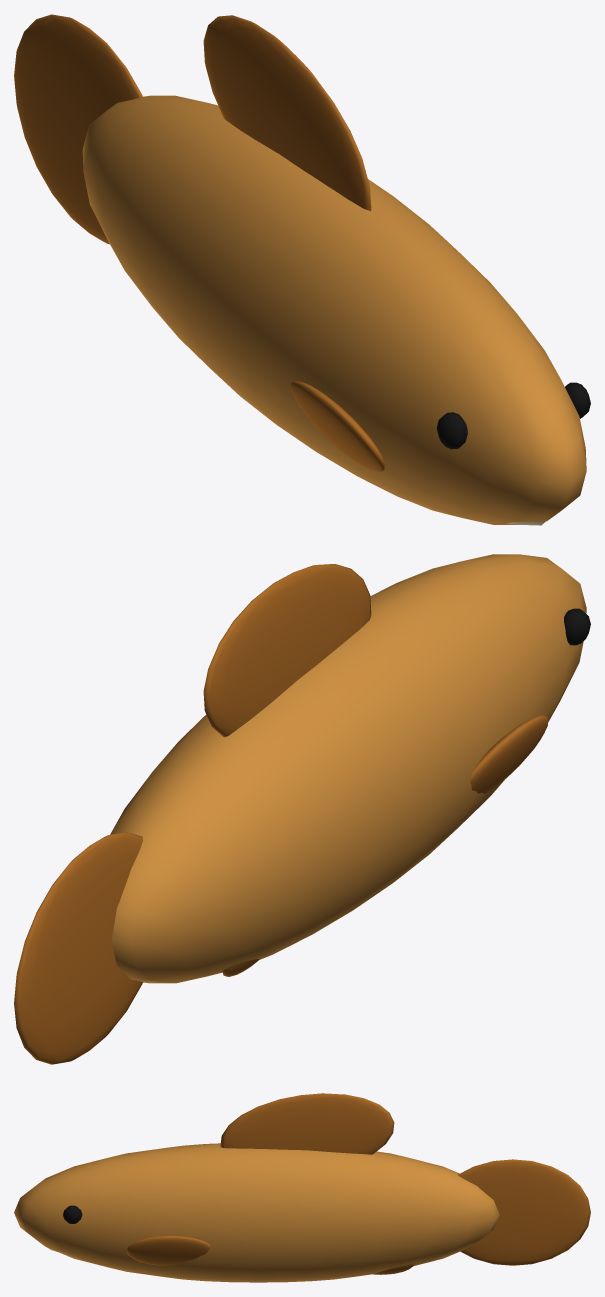
The model's file is carp.glb.
The picture shows the model from 3 angles, top to bottom: view 1: azimuth 30°, elevation 25°; view 2: azimuth 150°, elevation 25°; view 3: azimuth 270°, elevation 25°; orthographic projection. The views are drawn at different scales.
Parts seen in each view (by area): view 1: carp; view 2: carp; view 3: carp.
Part boxes in pixels (<box>): carp: <box>14,14,590,525</box>; carp: <box>14,554,590,1064</box>; carp: <box>14,1093,590,1282</box>.
Size of the model in its own units: 0.2521 by 0.4184 by 1.18.
